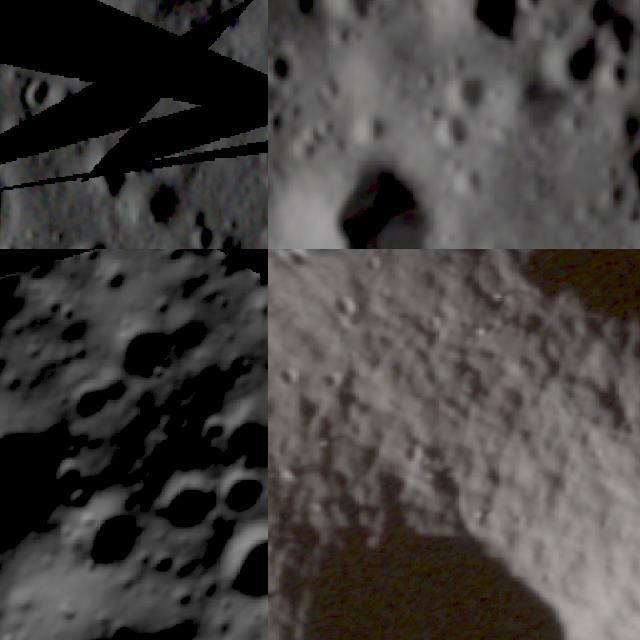crater: (268, 368, 640, 640), (0, 390, 103, 588), (285, 140, 434, 249), (52, 482, 169, 603), (100, 308, 192, 397), (129, 413, 218, 502), (204, 505, 268, 628), (194, 393, 268, 493), (140, 464, 224, 549), (57, 364, 138, 446), (69, 127, 145, 202), (121, 165, 189, 248), (200, 454, 268, 528), (316, 280, 371, 336), (13, 249, 129, 274), (15, 68, 64, 124), (203, 249, 268, 291), (434, 99, 479, 154), (175, 206, 229, 249), (452, 69, 498, 109), (308, 0, 374, 26), (268, 44, 302, 88), (0, 249, 52, 277), (0, 0, 39, 37), (600, 50, 639, 84), (60, 230, 126, 249), (507, 0, 545, 14)
